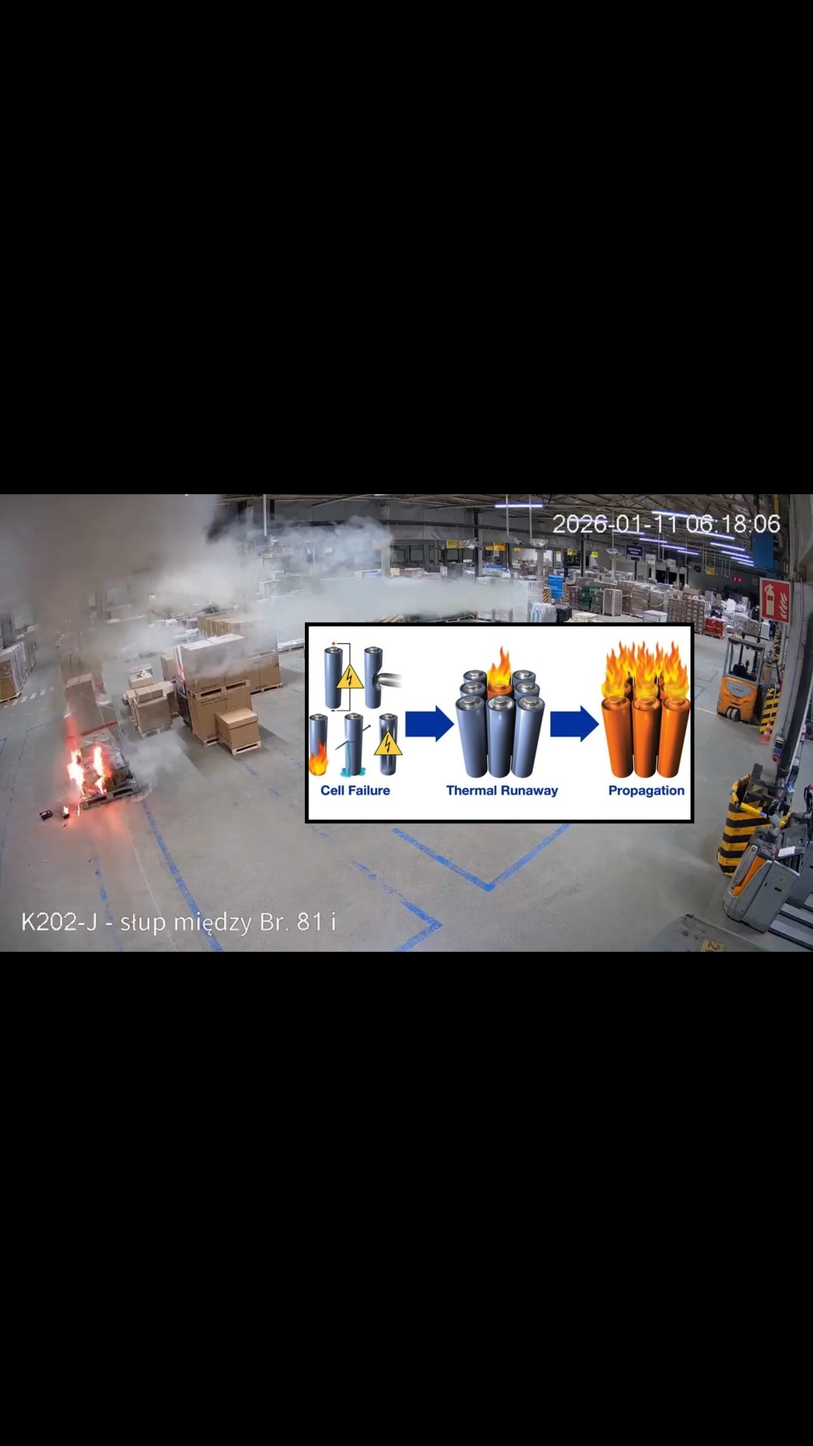fire: (62, 716, 112, 821)
smoke: (1, 495, 528, 779)
